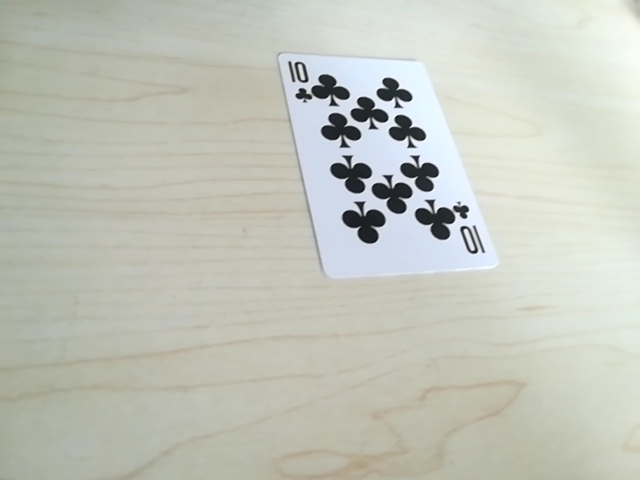mh 10: (448, 203, 483, 261), (285, 62, 329, 105)
